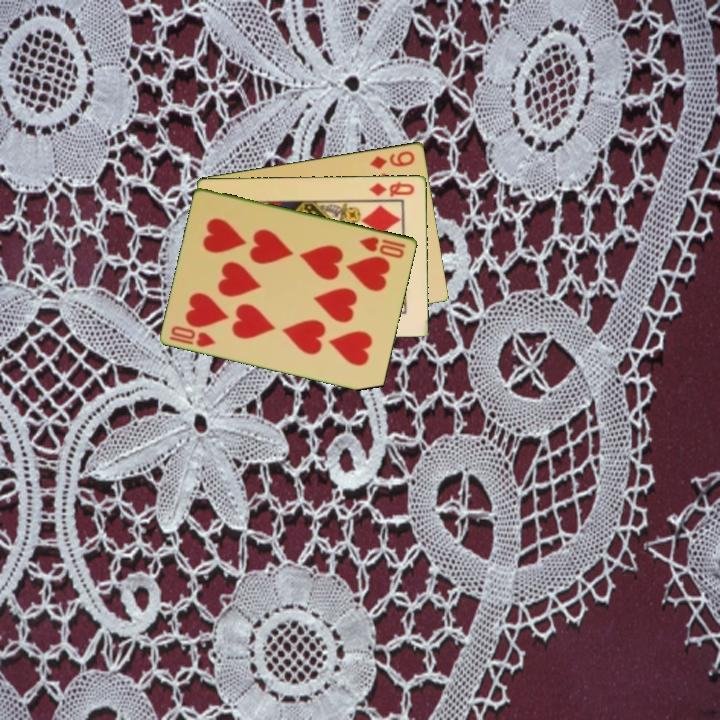10h: (356, 233, 409, 261), (166, 322, 219, 350)
9d: (366, 147, 418, 172)
Qd: (366, 178, 418, 199)
